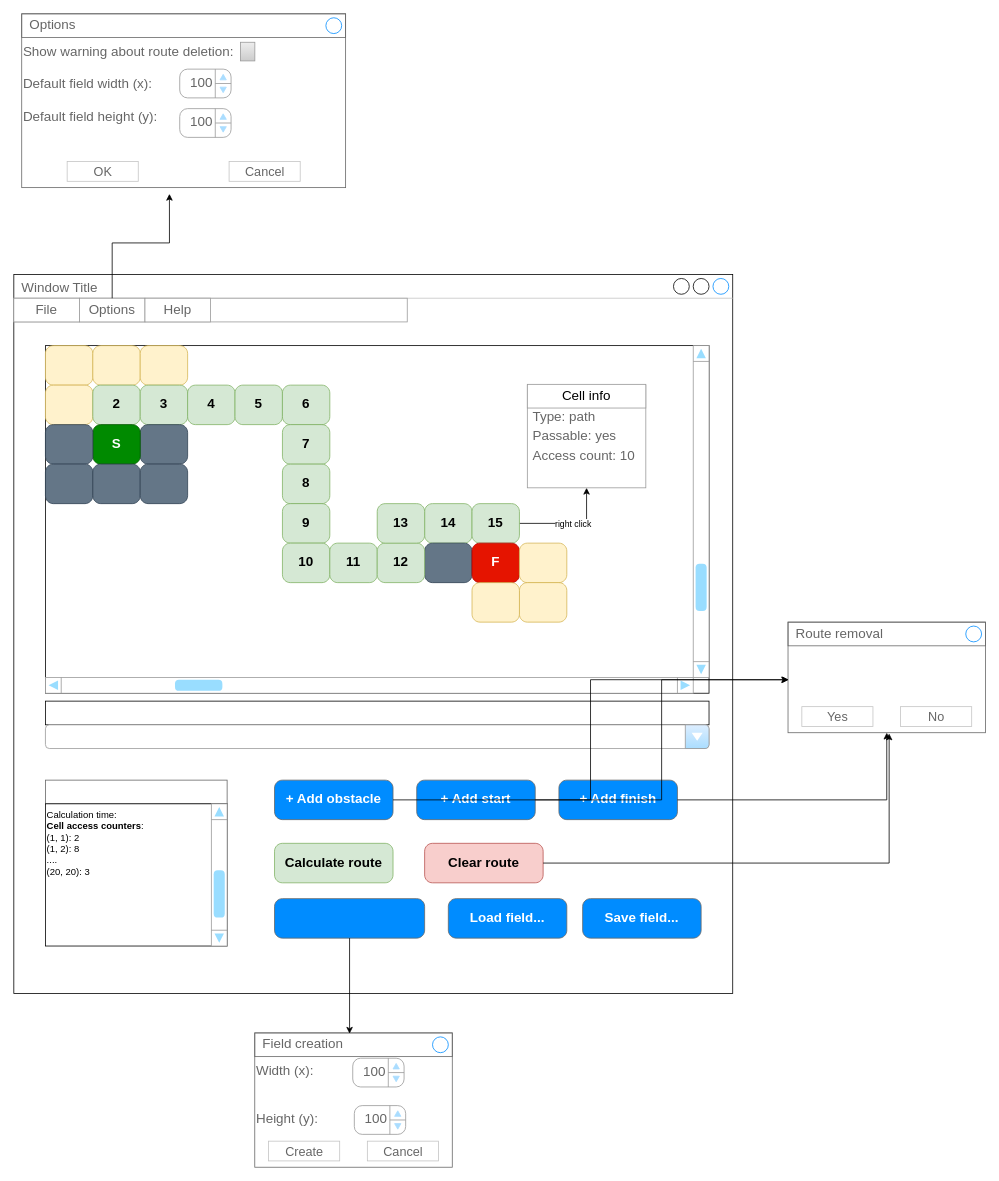
The diagram is 999 pixels wide and 1181 high, and some of its shapes have lost their labels. The shapes that lost their labels are listed below. From the top down, each one's centre as x and y in pixels, then its label:
[886,677]: Current route will be removed. Proceed?
[377,712]: Current path calculation algorithm
[377,736]: My precious algorithm
[136,791]: Route calculation statistics
[349,918]: Create new field...
